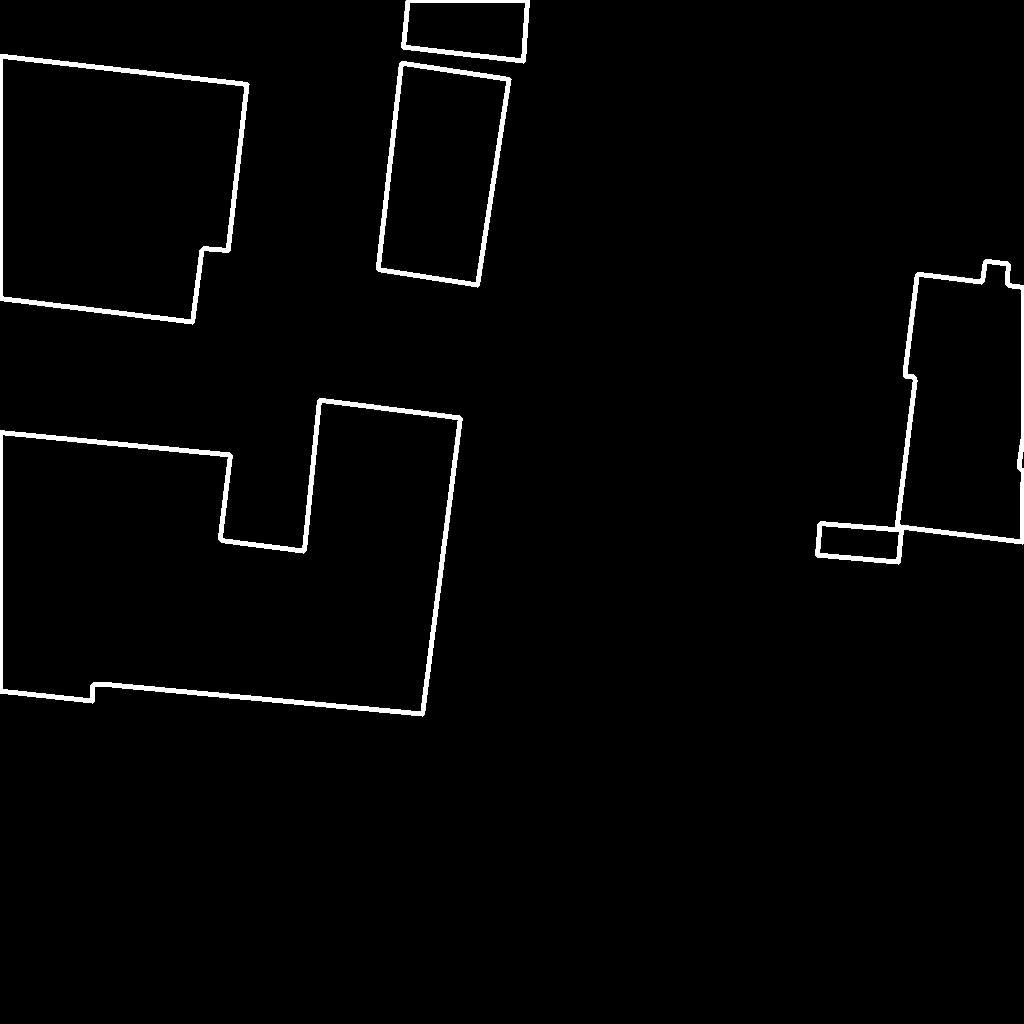building: (0, 400, 462, 715), (0, 56, 248, 323), (897, 261, 1024, 543), (378, 63, 510, 286), (403, 0, 529, 62), (817, 523, 903, 563)
